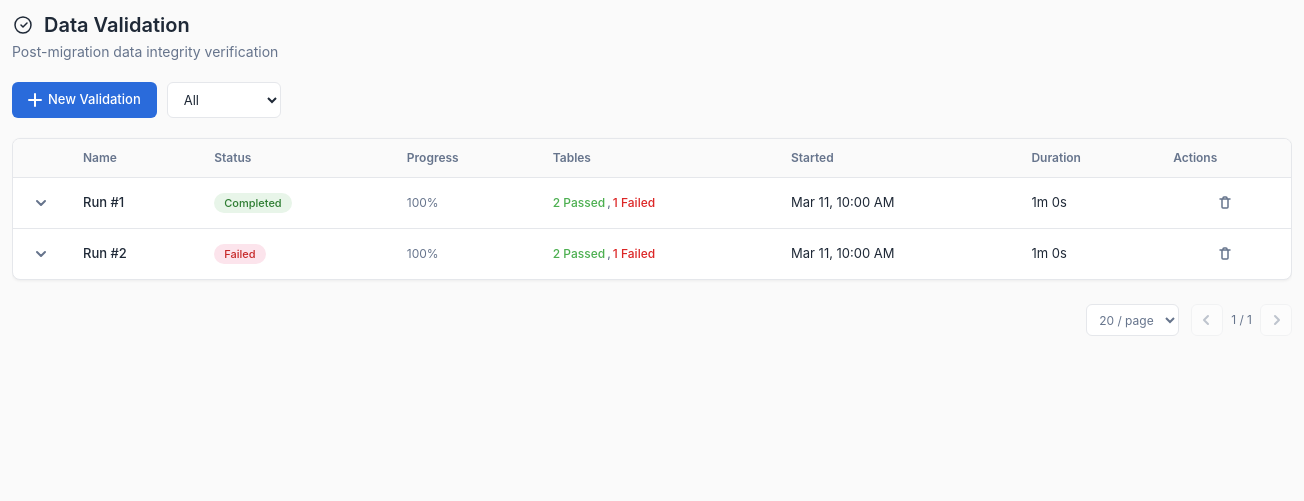
Test: Expandable rows and navigation › chevron click on expanded row collapses it
The width and height of the screenshot is (1304, 501).
expect the text "Run #1" is shown: met, box [69, 178, 200, 228]
Step 1. Click the button named "Expand run 1" → [41, 203], box [27, 189, 55, 217]
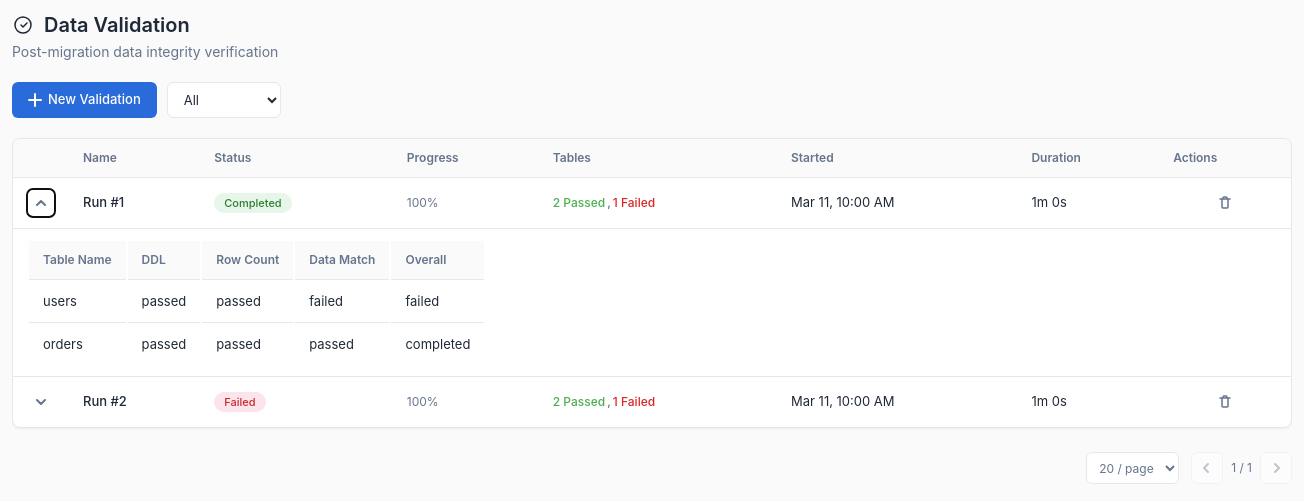
expect the text "users" is shown: met, box [29, 282, 126, 322]
// Click again to collapse
Step 2. Click the button named "Expand run 1" → [41, 203], box [27, 189, 55, 217]
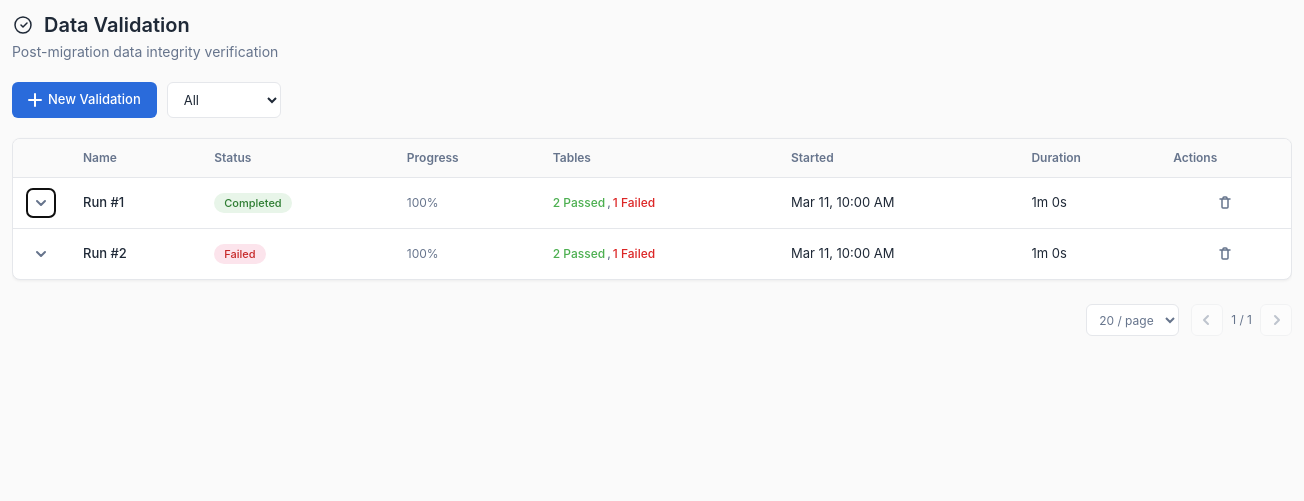
expect the column heading "Table Name" is gone: met
